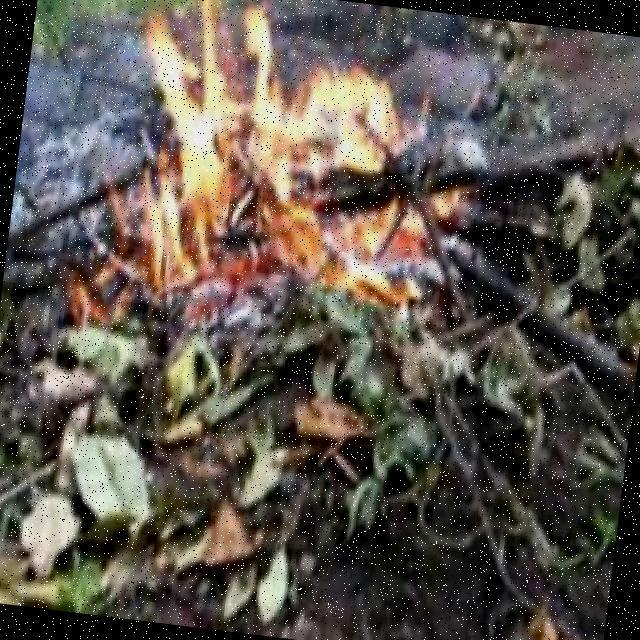Fire: (111, 0, 452, 291)
